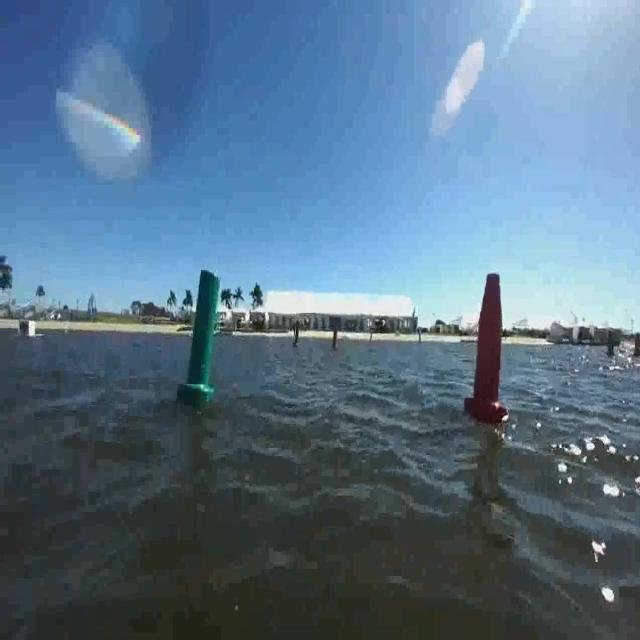green-column-buoy: (182, 270, 222, 400)
red-column-buoy: (467, 268, 511, 424)
